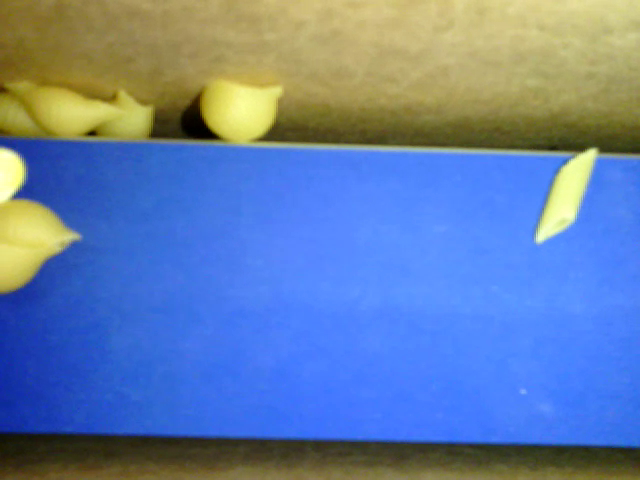penne: (531, 146, 598, 243)
shell: (1, 76, 128, 139), (193, 79, 286, 143), (1, 197, 87, 252), (90, 85, 160, 141), (1, 246, 64, 301), (1, 89, 51, 136)
